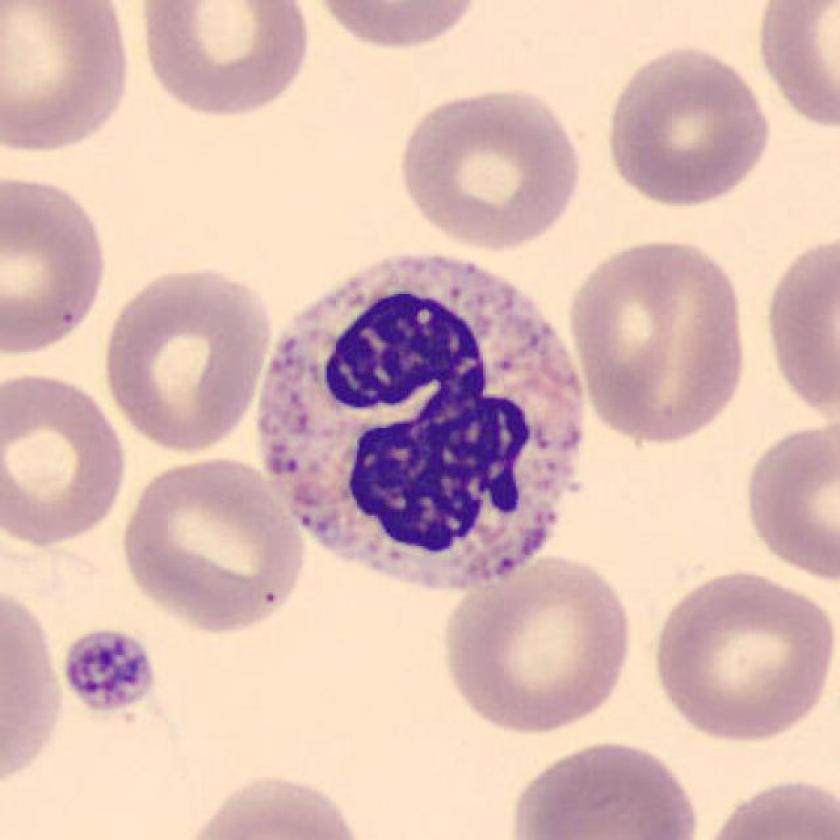neutrophil: (254, 253, 585, 585)
